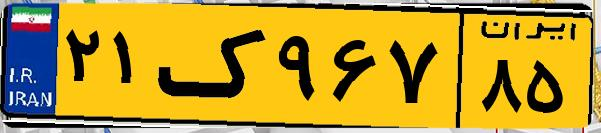1: (110, 28, 158, 98)
2: (57, 26, 110, 100)
5: (525, 38, 570, 115)
6: (330, 28, 385, 110)
7: (385, 28, 445, 110)
8: (475, 38, 525, 113)
9: (270, 28, 330, 110)
ک: (158, 12, 270, 120)
